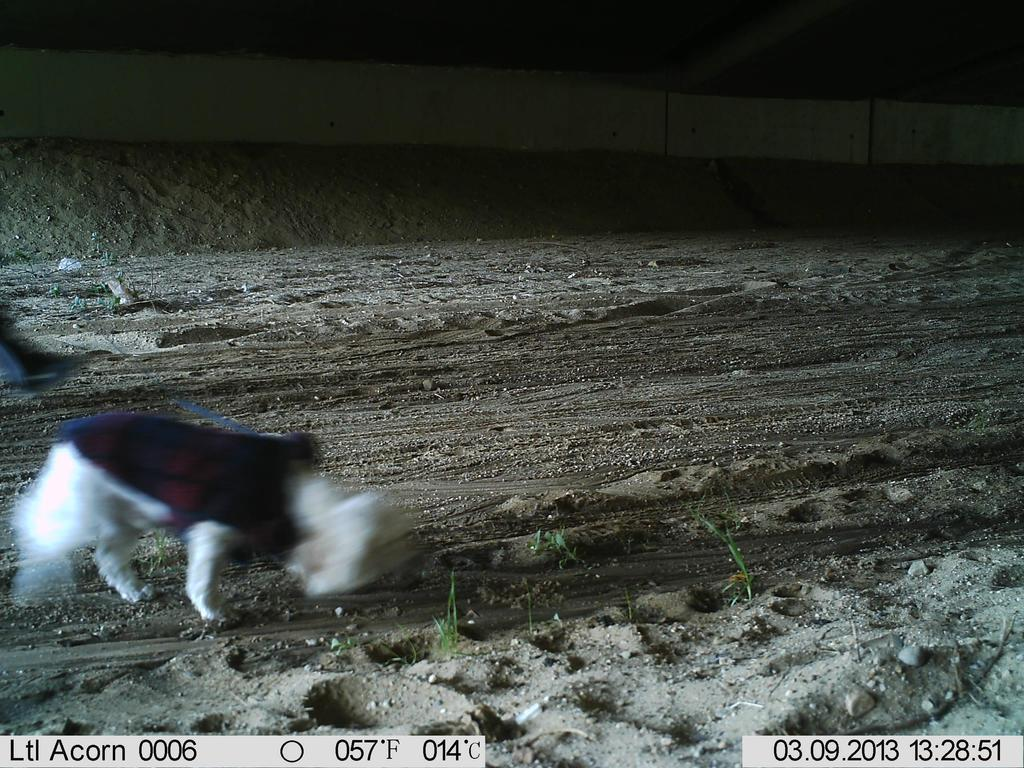dog: (18, 397, 413, 629)
